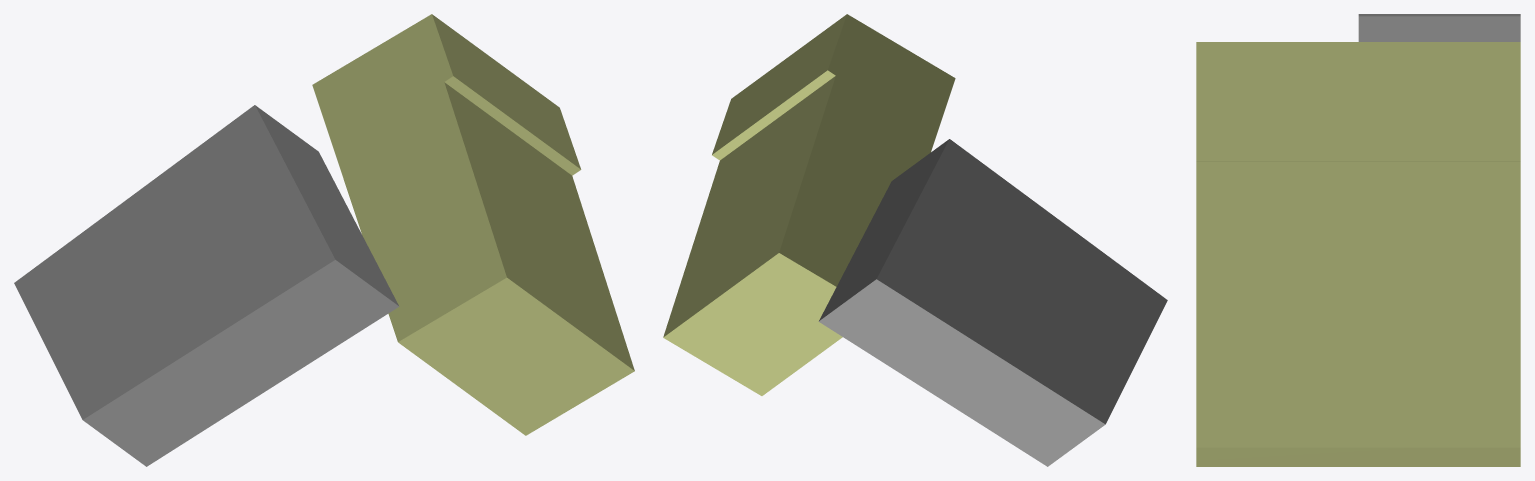
3 views of the same model, side by side, from view 1: azimuth 30°, elevation 25°; view 2: azimuth 150°, elevation 25°; view 3: azimuth 270°, elevation 25° (orthographic). The views are drawn at different scales.
Visible parts, largest first — view 1: 0_1_1_3_2_1_3_3_1_3_1; view 2: 0_1_1_3_2_1_3_3_1_3_1; view 3: 0_1_1_3_2_1_3_3_1_3_1.
Part boxes in pixels (box(x1,y1,x2,y2)): 0_1_1_3_2_1_3_3_1_3_1: box(14, 14, 634, 466); 0_1_1_3_2_1_3_3_1_3_1: box(663, 14, 1167, 466); 0_1_1_3_2_1_3_3_1_3_1: box(1196, 14, 1520, 466).
Size of the model in its own units: 13.34 by 8.3 by 6.
